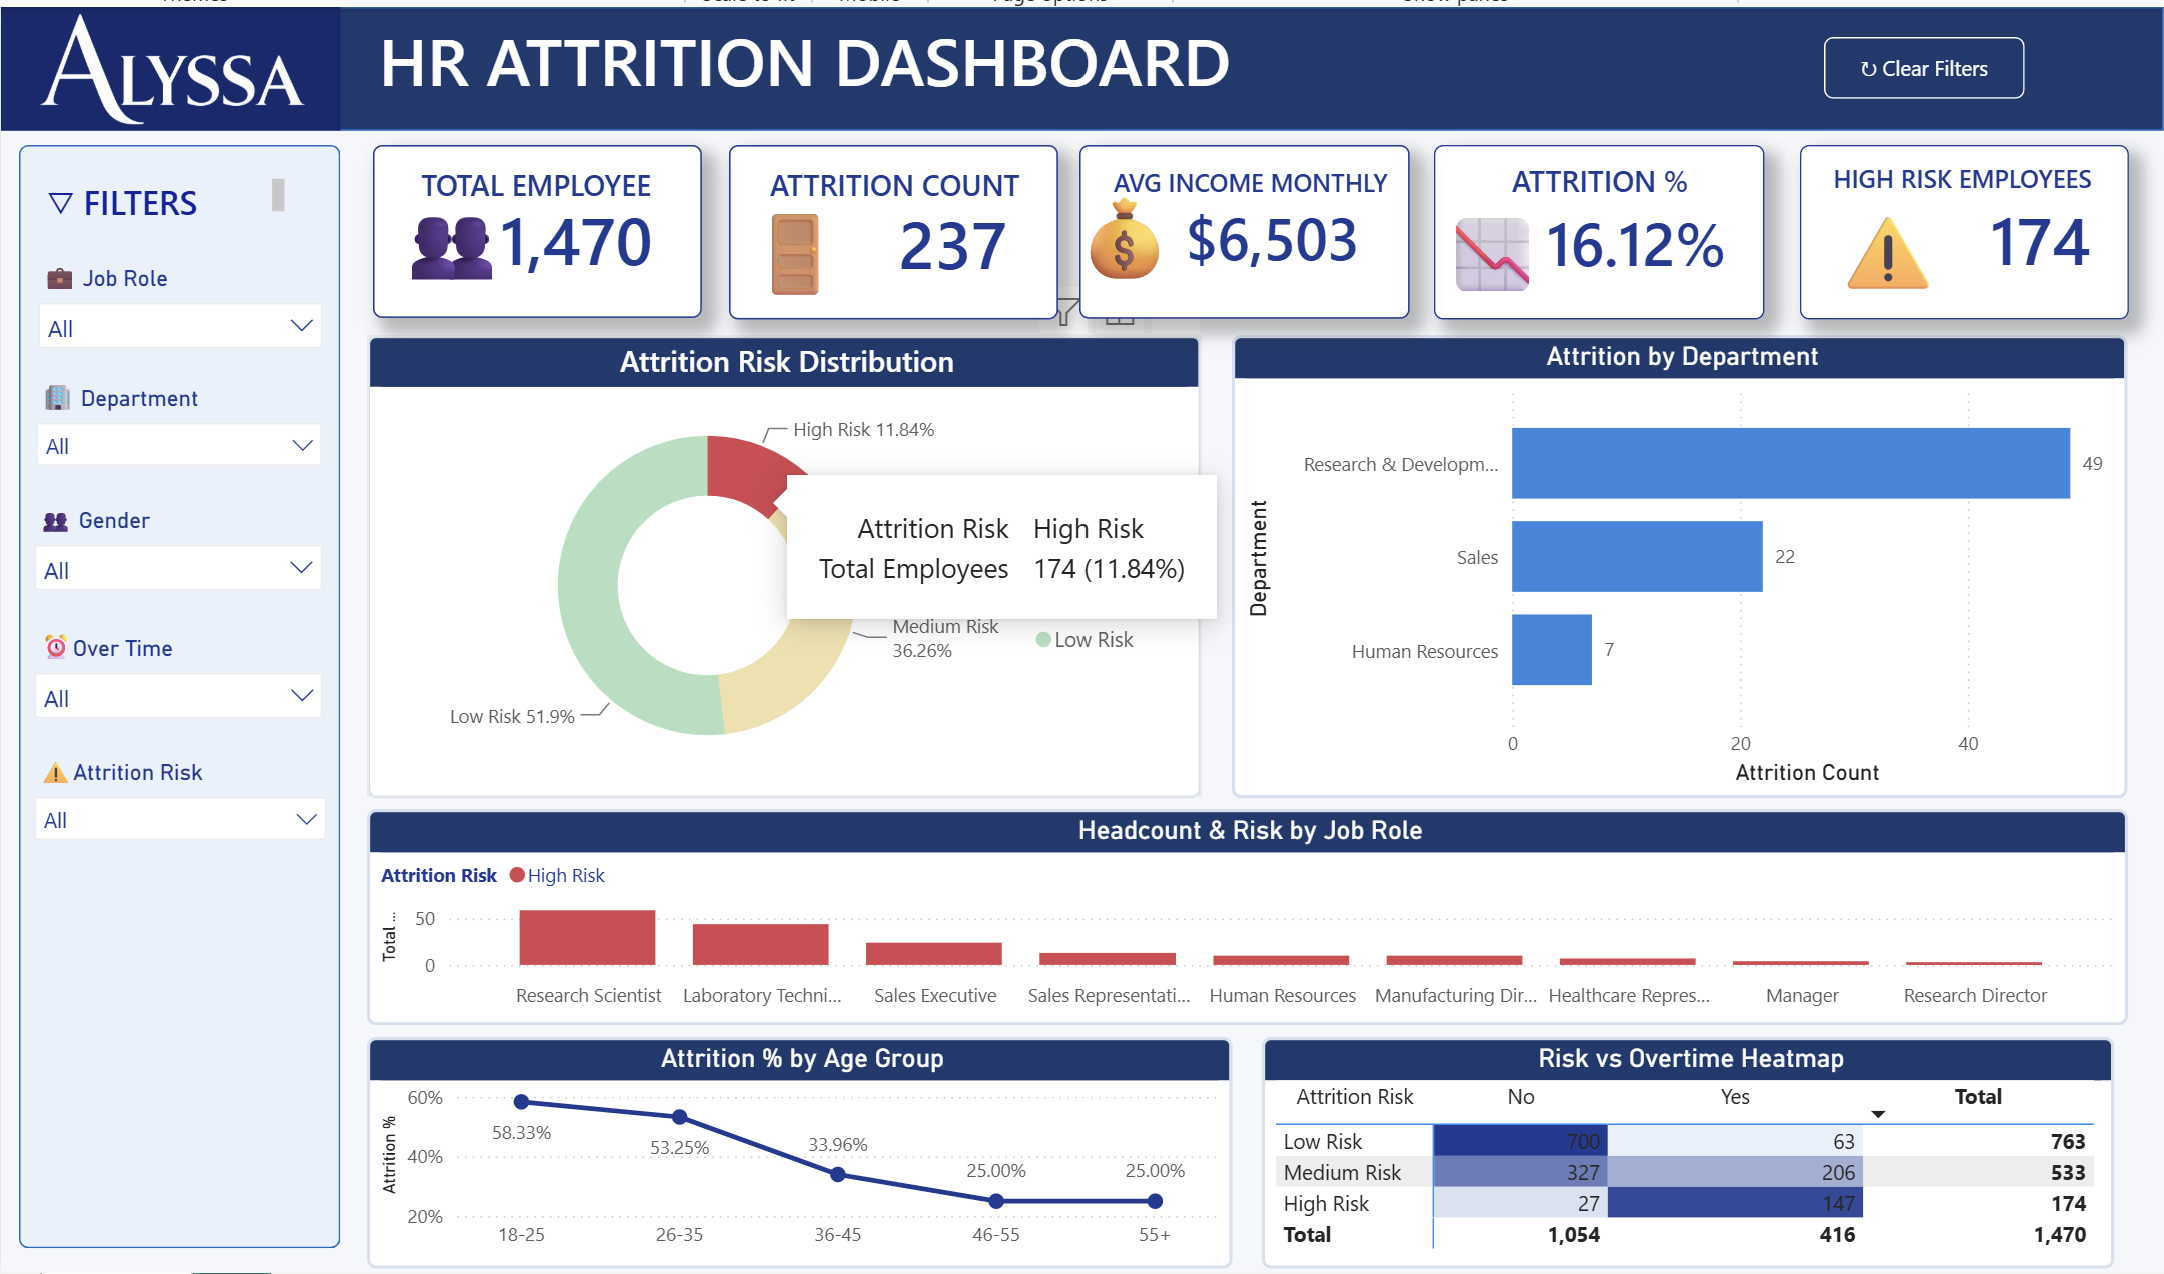

The page's visual inventory and layout, read from the dashboard file:
{"tool":"powerbi","page":{"name":"Page 1","canvas":[1400,820],"ordinal":0},"visuals":[{"type":"shape","box":[0,0,1400,80],"z":0},{"type":"textbox","box":[240,0,706.7,80],"z":1000},{"type":"image","box":[0,0,220,80],"z":2000},{"type":"shape","box":[11.8,90,208.2,714.5],"z":3000},{"type":"actionButton","box":[1180,20,130,40],"z":4000},{"type":"slicer","fields":{"Values":["HR_Data.JobRole"]},"box":[13.8,157.5,203.8,66.2],"z":5000},{"type":"slicer","fields":{"Values":["HR_Data.Department"]},"box":[12.5,236.2,205,71.2],"z":6000},{"type":"slicer","fields":{"Values":["HR_Data.Gender"]},"box":[11.2,315,206.2,71.2],"z":7000},{"type":"slicer","fields":{"Values":["HR_Data.OverTime"]},"box":[11.1,397.8,206.7,72.2],"z":8000},{"type":"textbox","box":[25,106.2,163.8,35],"z":9000},{"type":"donutChart","title":"Attrition Risk Distribution","fields":{"Category":["HR_Data.Attrition Risk"],"Y":["HR_Data.Total Employees"]},"box":[237.5,212.1,540,300],"z":10000},{"type":"clusteredBarChart","title":"Attrition by Department","fields":{"Category":["HR_Data.Department"],"Y":["HR_Data.Attrition Count"]},"box":[796.3,212.1,580,300],"z":11000},{"type":"columnChart","title":"Headcount & Risk by Job Role","fields":{"Category":["HR_Data.JobRole"],"Y":["HR_Data.Total Employees"],"Series":["HR_Data.Attrition Risk"]},"box":[237.5,520,1140,140],"z":12000},{"type":"lineChart","title":"Attrition % by Age Group","fields":{"Category":["HR_Data.Age Group"],"Y":["HR_Data.Attrition %"]},"box":[237.1,666.8,560,150],"z":13000},{"type":"pivotTable","title":"Risk vs Overtime Heatmap","fields":{"Rows":["HR_Data.Attrition Risk"],"Columns":["HR_Data.OverTime"],"Values":["HR_Data.Total Employees"]},"box":[816.7,666.7,552.2,150],"z":14000},{"type":"cardVisual","fields":{"Data":["HR_Data.High Risk Employees (Display)"]},"box":[1164,90,213,113],"z":15000},{"type":"cardVisual","fields":{"Data":["HR_Data.Attrition % (Display)"]},"box":[928,90,214,113],"z":16000},{"type":"cardVisual","fields":{"Data":["HR_Data.Attrition Count (Display)"]},"box":[471.4,90,212.9,112.9],"z":17000},{"type":"cardVisual","title":"TOTAL EMPLOYEES","fields":{"Data":["HR_Data.Avg Monthly Income (Display)"]},"box":[698.6,90,213.3,112.5],"z":18000},{"type":"textbox","box":[471.4,100,90,82.9],"z":19000},{"type":"textbox","box":[472.7,116.4,90,90],"z":20000},{"type":"textbox","box":[927.5,120,80,82.5],"z":21000},{"type":"textbox","box":[1180,113.3,90,88.9],"z":22000},{"type":"cardVisual","title":"hhh","fields":{"Data":["HR_Data.Total Employees (Display)"]},"box":[240.4,90,213,112],"z":23000},{"type":"textbox","box":[251.4,105.7,81.4,82.9],"z":24000},{"type":"textbox","box":[685,106.7,100,110],"z":25000},{"type":"textbox","box":[255.7,97.1,182.9,41.4],"z":26000},{"type":"textbox","box":[428.2,97.3,300,38.2],"z":27000},{"type":"textbox","box":[701.7,96.7,213.3,38.3],"z":28000},{"type":"textbox","box":[1171.2,95,197.5,36.2],"z":29000},{"type":"textbox","box":[946.2,95,178.8,36.2],"z":30000},{"type":"slicer","fields":{"Values":["HR_Data.Attrition Risk"]},"box":[11.1,477.8,208.9,70],"z":31000}]}

Visuals, with their boxes in screenshot pixels (x1, y1, x2, y2):
shape: box(0, 0, 2163, 126)
textbox: box(374, 0, 1490, 126)
image: box(0, 0, 342, 126)
shape: box(13, 142, 342, 1271)
actionButton: box(1859, 32, 2065, 95)
slicer - HR_Data.JobRole: box(16, 249, 338, 354)
slicer - HR_Data.Department: box(14, 373, 338, 486)
slicer - HR_Data.Gender: box(12, 498, 338, 610)
slicer - HR_Data.OverTime: box(12, 629, 339, 743)
textbox: box(34, 168, 293, 223)
"Attrition Risk Distribution" donutChart: box(370, 335, 1223, 809)
"Attrition by Department" clusteredBarChart: box(1253, 335, 2163, 809)
"Headcount & Risk by Job Role" columnChart: box(370, 822, 2163, 1043)
"Attrition % by Age Group" lineChart: box(369, 1054, 1254, 1273)
"Risk vs Overtime Heatmap" pivotTable: box(1285, 1054, 2158, 1273)
cardVisual - HR_Data.High Risk Employees (Display): box(1834, 142, 2163, 321)
cardVisual - HR_Data.Attrition % (Display): box(1461, 142, 1799, 321)
cardVisual - HR_Data.Attrition Count (Display): box(739, 142, 1076, 321)
"TOTAL EMPLOYEES" cardVisual: box(1098, 142, 1435, 320)
textbox: box(739, 158, 882, 289)
textbox: box(741, 184, 884, 326)
textbox: box(1460, 190, 1587, 320)
textbox: box(1859, 179, 2001, 320)
"hhh" cardVisual: box(374, 142, 711, 319)
textbox: box(392, 167, 520, 298)
textbox: box(1077, 169, 1235, 342)
textbox: box(398, 153, 688, 219)
textbox: box(671, 154, 1145, 214)
textbox: box(1103, 153, 1440, 213)
textbox: box(1845, 150, 2157, 207)
textbox: box(1490, 150, 1772, 207)
slicer - HR_Data.Attrition Risk: box(12, 755, 342, 866)
